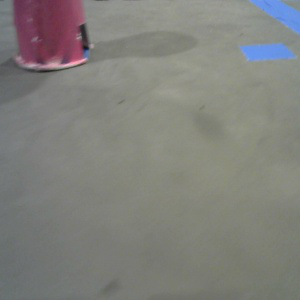middle: (14, 1, 93, 71)
